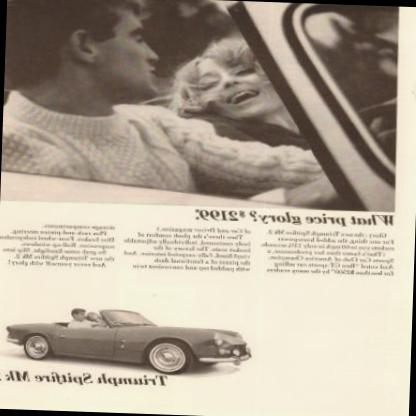car: (1, 0, 404, 215), (4, 305, 252, 380)
